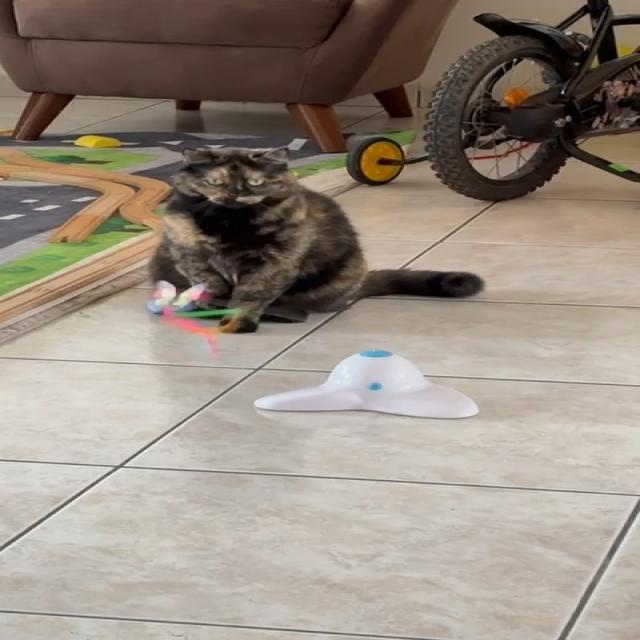authorized: (148, 144, 484, 334)
